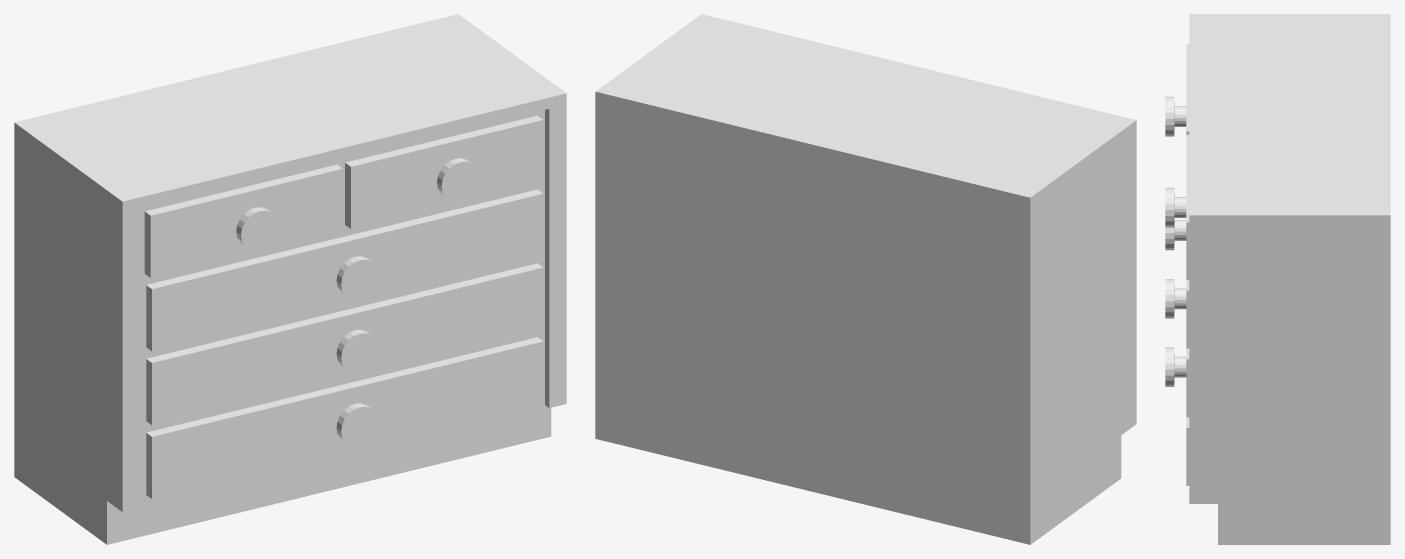
File: Dresser.fbx
The picture shows the model from 3 angles, left to right: view 1: azimuth 30°, elevation 25°; view 2: azimuth 150°, elevation 25°; view 3: azimuth 270°, elevation 25°; orthographic projection. The views are drawn at different scales.
Parts seen in each view (by area): view 1: Dresser; view 2: Dresser; view 3: Dresser.
Part boxes in pixels (x1,y1,x2,y2): Dresser: (14, 14, 566, 544); Dresser: (595, 14, 1136, 544); Dresser: (1165, 14, 1390, 544).
Size of the model in its own units: 186 by 88.2 by 142.
